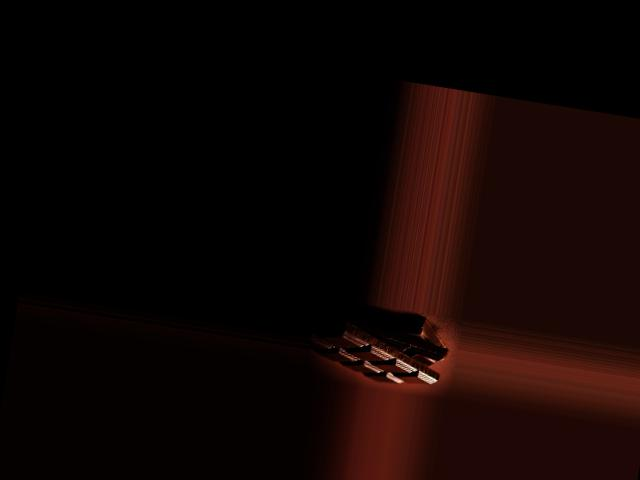chocolate: (309, 309, 450, 390)
